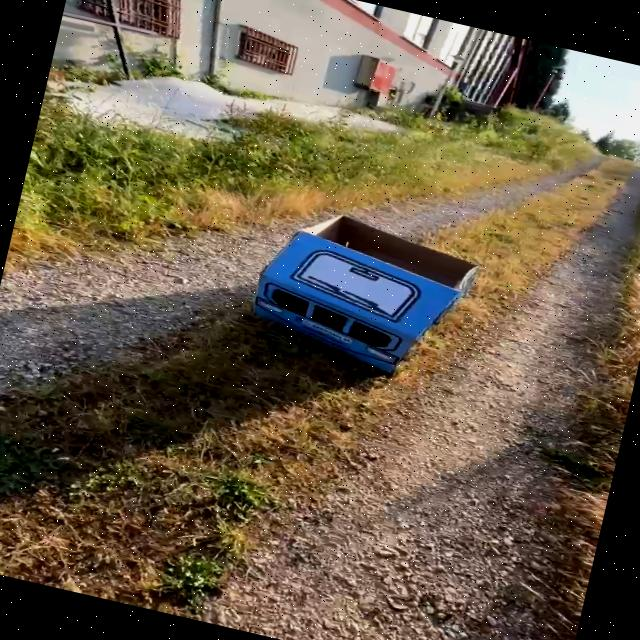blue_car: (203, 177, 507, 416)
